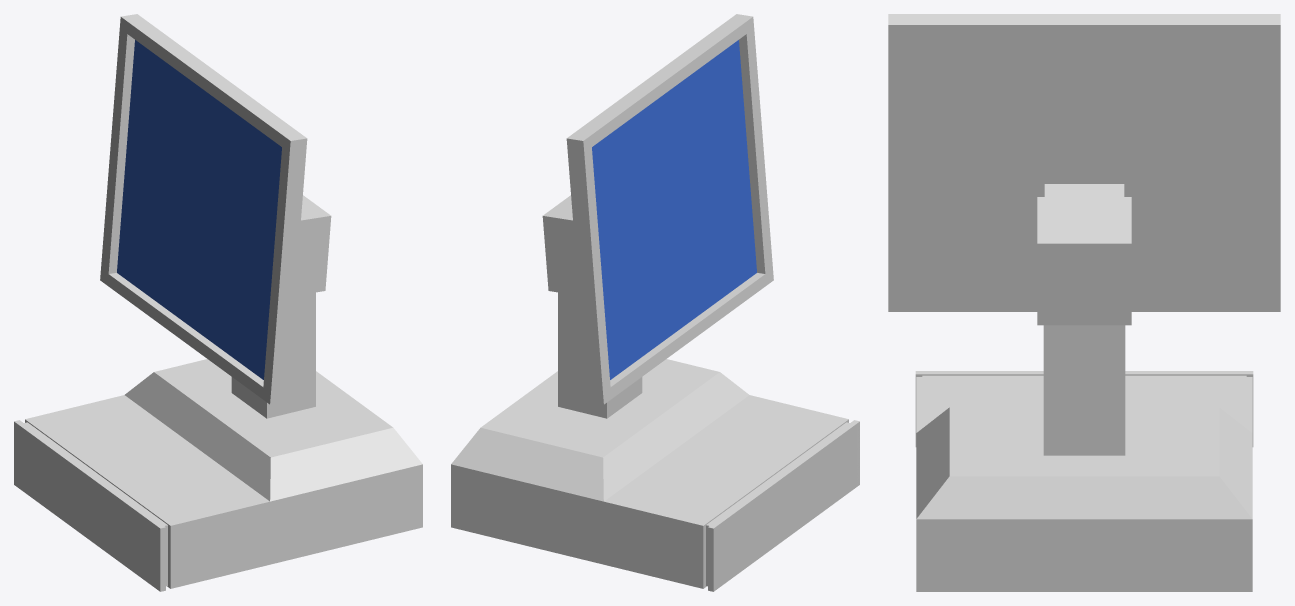
Rendered from CashRegister.fbx.
3 views of the same model, side by side, from view 1: azimuth 30°, elevation 25°; view 2: azimuth 150°, elevation 25°; view 3: azimuth 270°, elevation 25° (orthographic). The views are drawn at different scales.
Visible parts, largest first — view 1: CashRegister, Cube.001; view 2: CashRegister, Cube.001; view 3: Cube.001, CashRegister.
Part boxes in pixels (x1,y1,x2,y2): CashRegister: (14,292,422,591); Cube.001: (100,14,331,404); CashRegister: (451,292,859,591); Cube.001: (542,14,773,404); Cube.001: (888,14,1280,325); CashRegister: (915,325,1253,591).
Bounding box in the file's own units: 772 × 1208 × 864.
